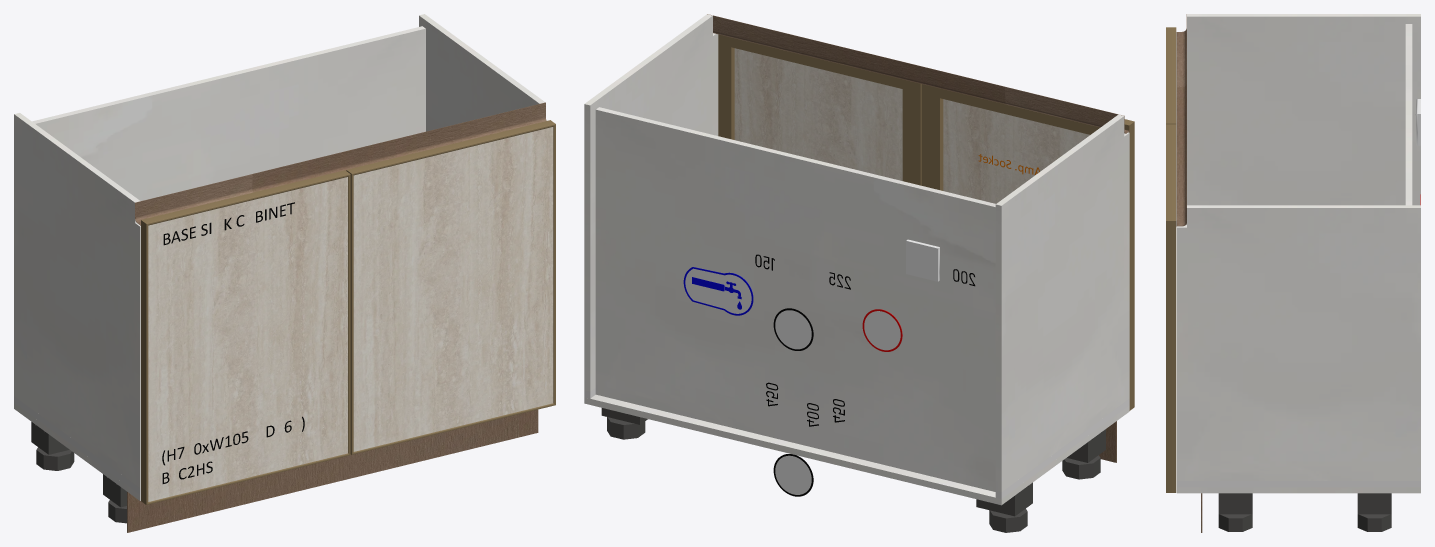
Rendered from BC-SK-CJ-ST-XXX-2HS-XXX-1050-720-560-15.glb.
The picture shows the model from 3 angles, left to right: view 1: azimuth 30°, elevation 25°; view 2: azimuth 150°, elevation 25°; view 3: azimuth 270°, elevation 25°; orthographic projection. The views are drawn at different scales.
Parts seen in each view (by area): view 1: Object_node_1, Object_node, TP_node_0, TP, Object_node_53, ExtrSplGeo, TP_node_1, Extrusion_node_1, Extrusion_node_2, Extrusion, Extrusion_node_5, Object_node_3 (+7 smaller); view 2: TP, TP_node_0, Object_node_1, TP_node_1, Object_node, ExtrSplGeo, TP_node, Extrusion_node, Extrusion_node_5, Extrusion_node_2, Object_node_43, Extrusion (+11 smaller); view 3: TP_node_1, TP_node_0, Extrusion_node_3, ExtrSplGeo, TP_node, Object_node_5, TP, Extrusion, Extrusion_node_2, Plate_node_1, Plate_node, Foot_node (+1 smaller).
Part boxes in pixels (bbox=[...]): Object_node_1: bbox=[353, 127, 553, 451]; Object_node: bbox=[148, 177, 347, 501]; TP_node_0: bbox=[14, 113, 140, 488]; TP: bbox=[32, 26, 425, 200]; Object_node_53: bbox=[127, 409, 538, 532]; ExtrSplGeo: bbox=[135, 102, 546, 225]; TP_node_1: bbox=[419, 14, 545, 131]; Extrusion_node_1: bbox=[141, 220, 148, 504]; Extrusion_node_2: bbox=[347, 120, 555, 175]; Extrusion: bbox=[141, 170, 350, 225]; Extrusion_node_5: bbox=[346, 170, 353, 454]; Object_node_3: bbox=[14, 396, 140, 494]; TP: bbox=[595, 107, 995, 491]; TP_node_0: bbox=[995, 114, 1129, 492]; Object_node_1: bbox=[734, 48, 902, 180]; TP_node_1: bbox=[584, 14, 718, 391]; Object_node: bbox=[943, 99, 1089, 203]; ExtrSplGeo: bbox=[707, 14, 1129, 133]; TP_node: bbox=[584, 394, 1129, 505]; Extrusion_node: bbox=[921, 84, 943, 190]; Extrusion_node_5: bbox=[902, 81, 921, 185]; Extrusion_node_2: bbox=[722, 35, 911, 88]; Object_node_43: bbox=[685, 268, 751, 313]; Extrusion: bbox=[931, 86, 1134, 134]; TP_node_1: bbox=[1177, 205, 1420, 480]; TP_node_0: bbox=[1186, 14, 1420, 224]; Extrusion_node_3: bbox=[1166, 221, 1176, 492]; ExtrSplGeo: bbox=[1176, 14, 1186, 226]; TP_node: bbox=[1177, 487, 1420, 493]; Object_node_5: bbox=[1177, 481, 1420, 487]; TP: bbox=[1405, 24, 1412, 205]; Extrusion: bbox=[1166, 27, 1176, 123]; Extrusion_node_2: bbox=[1166, 124, 1176, 220]; Plate_node_1: bbox=[1218, 493, 1252, 514]; Plate_node: bbox=[1357, 493, 1391, 514]; Foot_node: bbox=[1357, 514, 1391, 531].
Size of what is drawn, in the model's own units: 1.05 by 0.82 by 0.5899.
13 materials, 3 textured.
